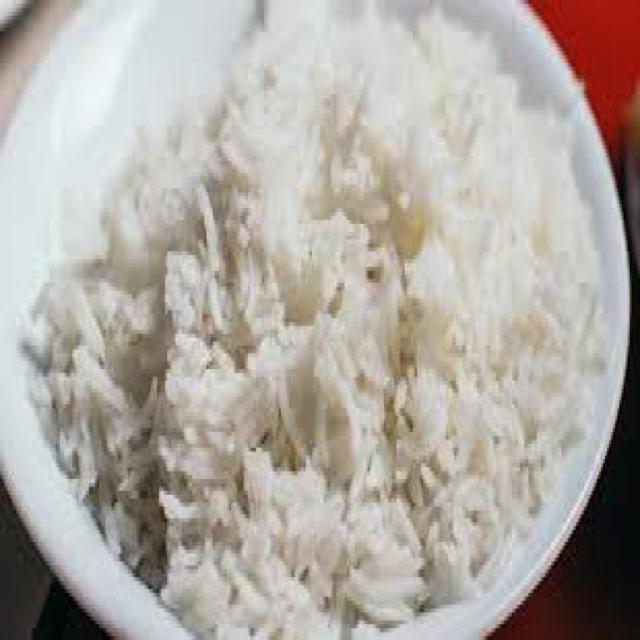nasi_putih: (21, 5, 606, 640)
